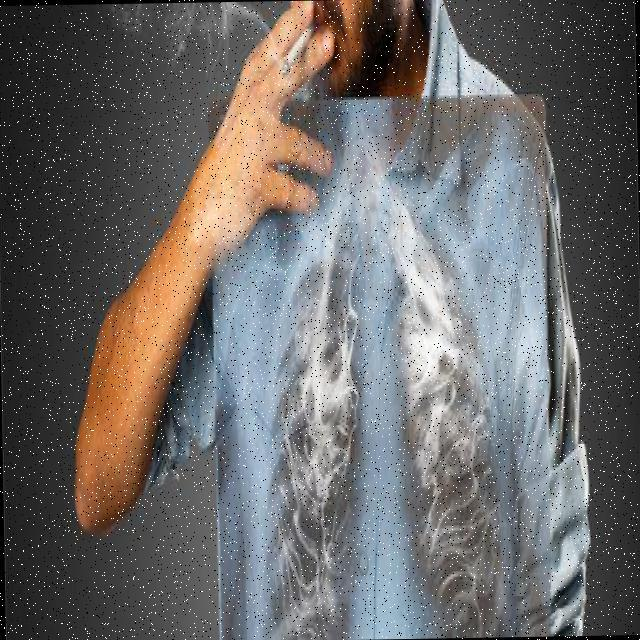cigarette: (279, 10, 312, 90)
